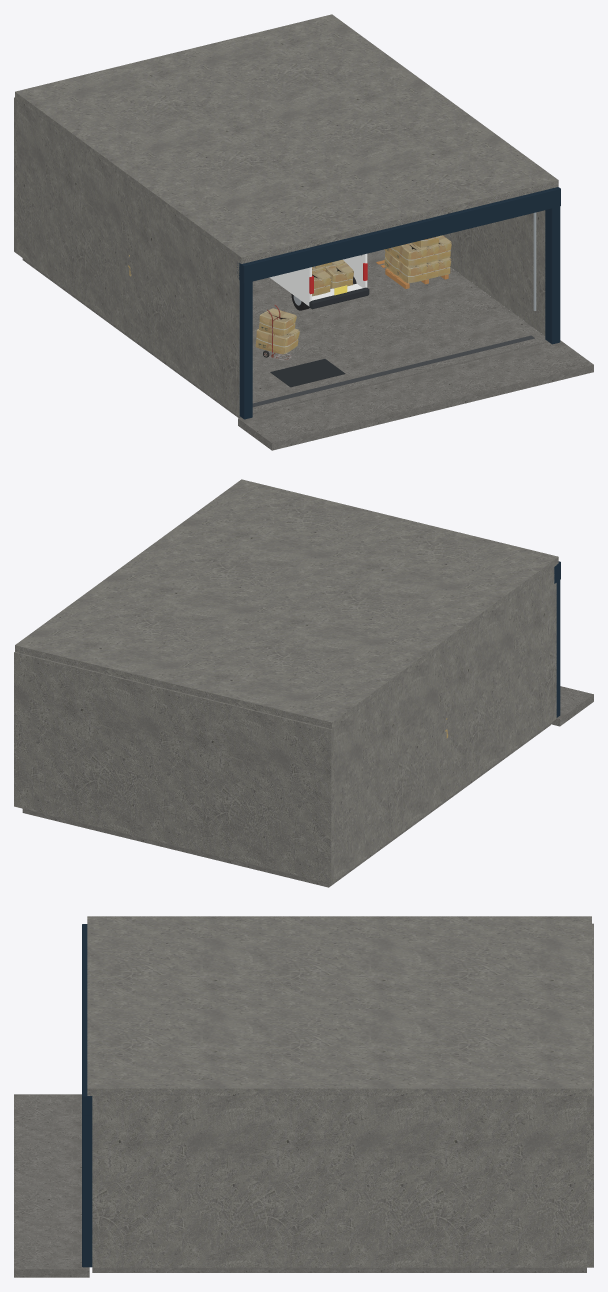
File: garage.glb
3 views of the same model, one above another, from view 1: azimuth 30°, elevation 25°; view 2: azimuth 150°, elevation 25°; view 3: azimuth 270°, elevation 25° (orthographic). The views are drawn at different scales.
Visible parts, largest first — view 1: Garage_architecture, Garage_floor, Garage_details, Garage_furniture; view 2: Garage_architecture, Garage_floor; view 3: Garage_architecture, Garage_floor.
Boxes of the visible parts, x1=… form: Garage_architecture: x1=14, y1=14, x2=560, y2=419; Garage_floor: x1=22, y1=249, x2=593, y2=450; Garage_details: x1=128, y1=235, x2=534, y2=406; Garage_furniture: x1=263, y1=253, x2=448, y2=360; Garage_architecture: x1=14, y1=479, x2=560, y2=883; Garage_floor: x1=22, y1=686, x2=593, y2=887; Garage_architecture: x1=82, y1=916, x2=593, y2=1267; Garage_floor: x1=14, y1=1094, x2=586, y2=1277.
Size of the model in its own units: 8.2 by 4.1 by 11.49.
20 materials, 6 textured.
